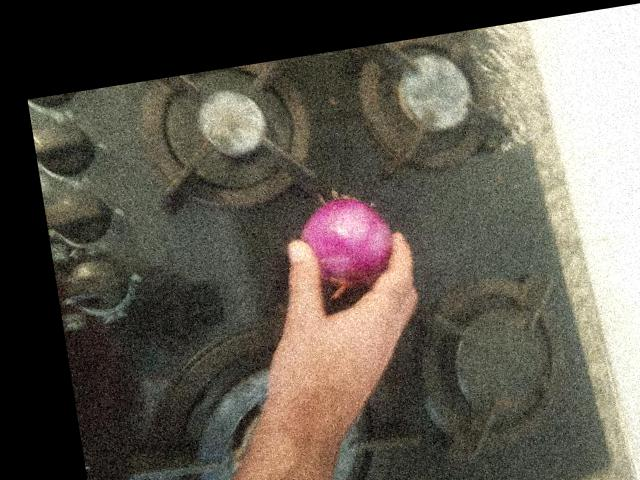onion: (437, 110, 528, 204)
